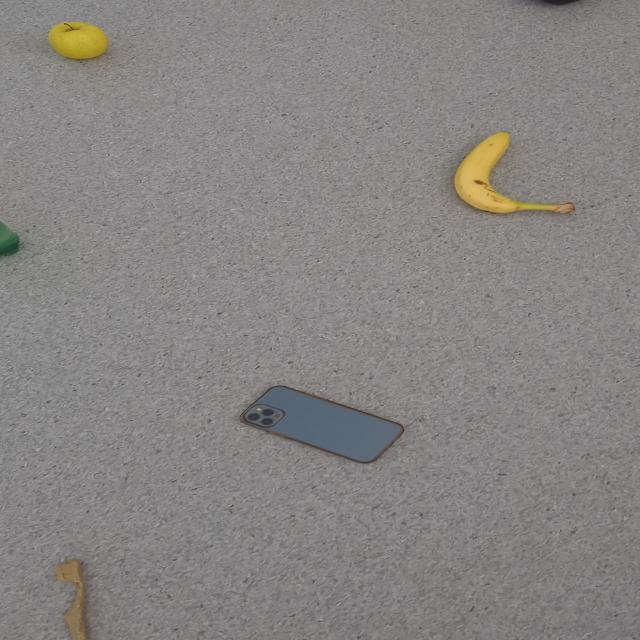apple: (47, 21, 108, 59)
banana: (453, 131, 575, 214)
phone: (238, 384, 404, 464)
